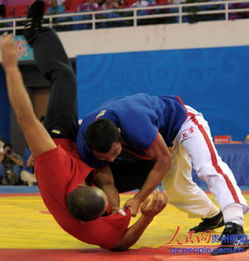fall: (8, 9, 109, 244)
